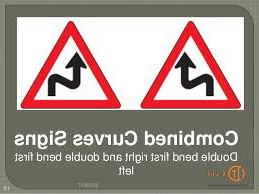Double_bend_left: (139, 19, 243, 110)
Double_bend_right: (19, 18, 124, 110)
